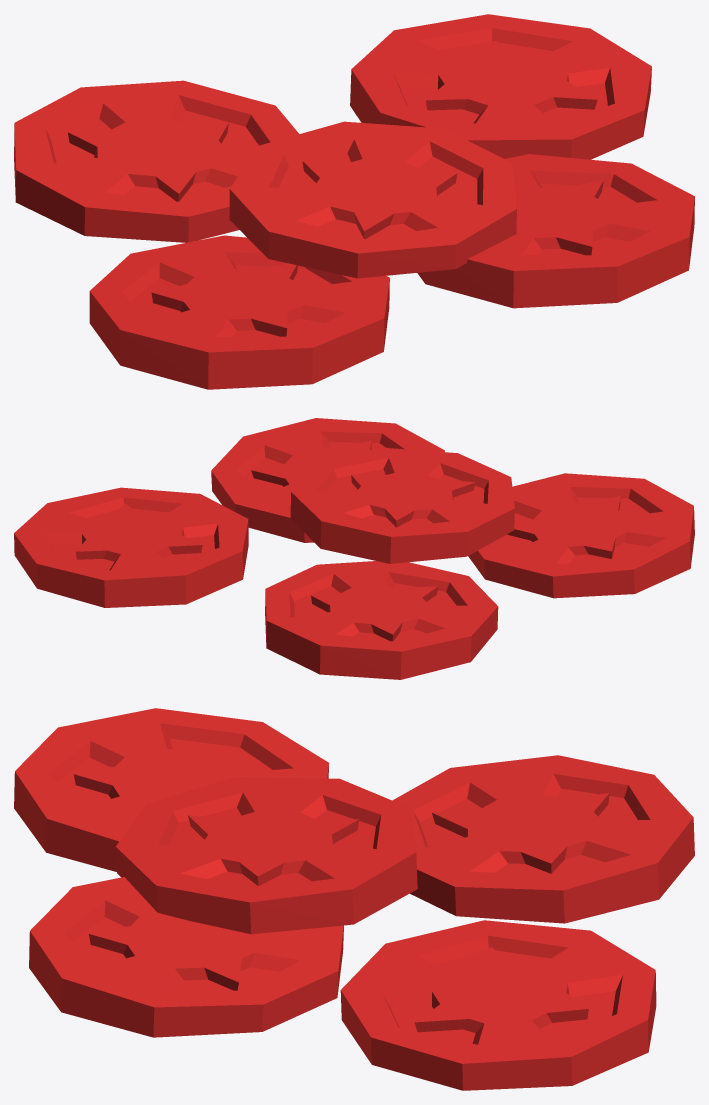
File: Tomato_Slice.obj
3 renders of one model, top to bottom at view 1: azimuth 30°, elevation 25°; view 2: azimuth 150°, elevation 25°; view 3: azimuth 270°, elevation 25°, orthographic. The views are drawn at different scales.
Parts seen in each view (by area): view 1: Tomato_Slice; view 2: Tomato_Slice; view 3: Tomato_Slice.
Part boxes in pixels (left/top/right/bottom): Tomato_Slice: left=14, top=14, right=694, bottom=389; Tomato_Slice: left=14, top=418, right=694, bottom=679; Tomato_Slice: left=14, top=708, right=694, bottom=1090.
Bounding box in the file's own units: 0.8057 × 0.0765 × 0.6686.
